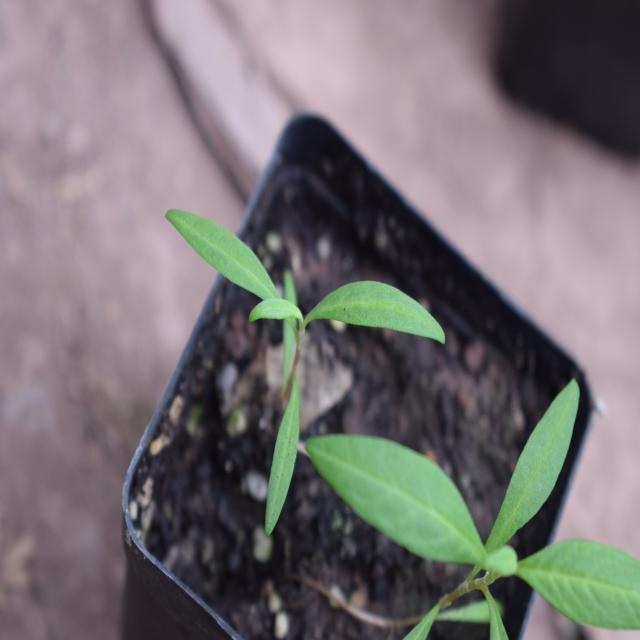white_smart_weed: (178, 190, 418, 537), (324, 396, 637, 637)
